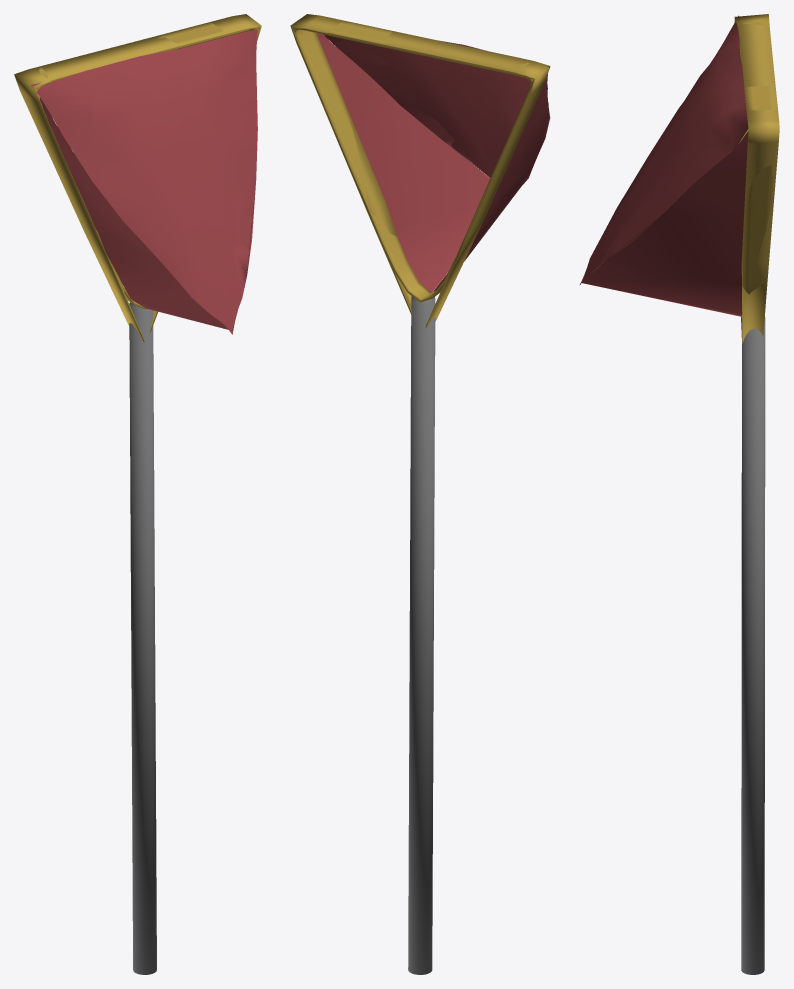
Rendered from vfishingscoop.fbx.
3 renders of one model, left to right at view 1: azimuth 30°, elevation 25°; view 2: azimuth 150°, elevation 25°; view 3: azimuth 270°, elevation 25°, orthographic. The views are drawn at different scales.
Visible parts, largest first — view 1: s.0066 (×2), p.0061, s.0056_Thicken (×2), s.0064; view 2: p.0061, s.0065, s.0056_Thicken (×2), s.0066 (×2), s.0064; view 3: p.0061, s.0065, s.0066 (×2), s.0056_Thicken (×2).
Part boxes in pixels (left/top/right/bottom): s.0066 (×2): left=31, top=29, right=257, bottom=334; p.0061: left=129, top=302, right=156, bottom=974; s.0056_Thicken (×2): left=14, top=14, right=261, bottom=341; s.0064: left=39, top=97, right=231, bottom=330; p.0061: left=408, top=296, right=435, bottom=974; s.0065: left=316, top=33, right=489, bottom=292; s.0056_Thicken (×2): left=290, top=14, right=550, bottom=328; s.0066 (×2): left=324, top=34, right=550, bottom=184; s.0064: left=433, top=76, right=548, bottom=291; p.0061: left=741, top=317, right=765, bottom=974; s.0065: left=581, top=131, right=748, bottom=316; s.0066 (×2): left=579, top=15, right=748, bottom=285; s.0056_Thicken (×2): left=734, top=14, right=779, bottom=343.
Size of the model in its own units: 0.978 by 0.7316 by 3.62.
